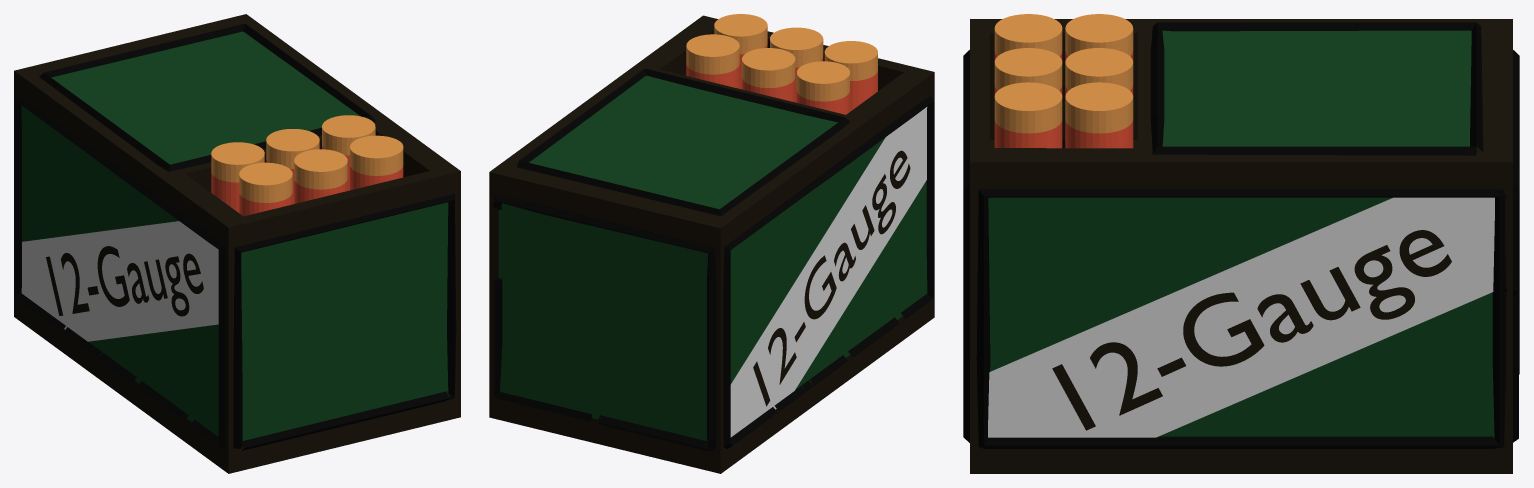
The model's file is 12Gauge.fbx.
3 renders of one model, left to right at view 1: azimuth 30°, elevation 25°; view 2: azimuth 150°, elevation 25°; view 3: azimuth 270°, elevation 25°, orthographic. The views are drawn at different scales.
Parts seen in each view (by area): view 1: 12Gauge; view 2: 12Gauge; view 3: 12Gauge.
Part boxes in pixels (bbox=[...]): 12Gauge: bbox=[14, 14, 460, 473]; 12Gauge: bbox=[489, 14, 934, 473]; 12Gauge: bbox=[963, 14, 1519, 473].
Size of the model in its own units: 26 by 27.6 by 41.
